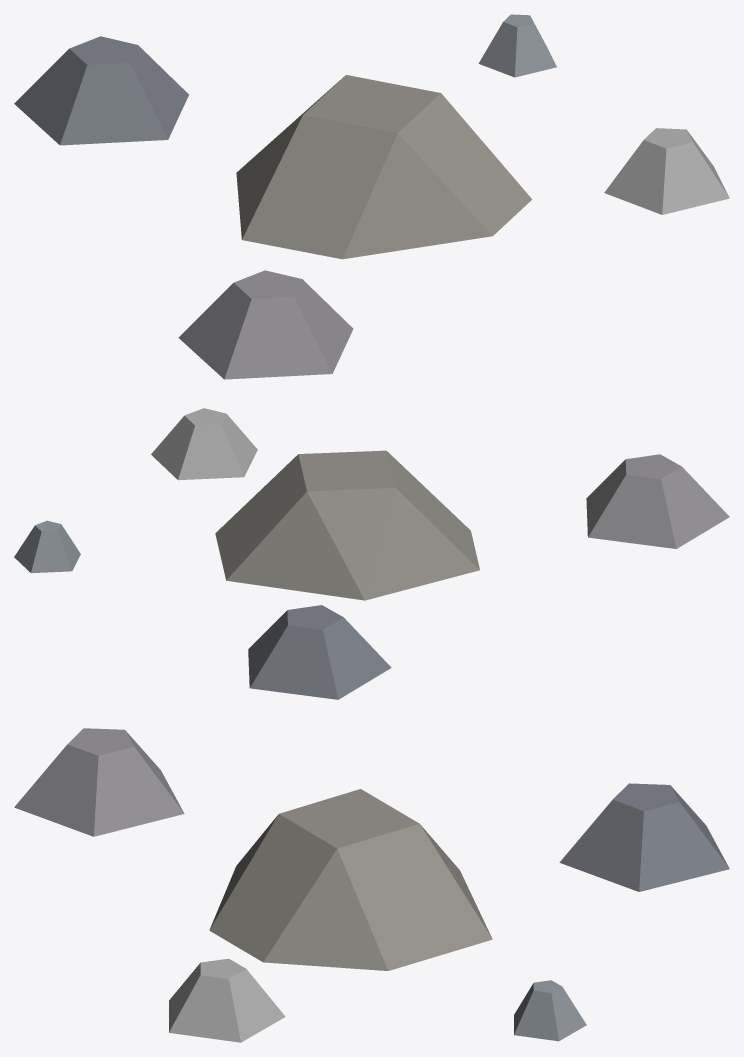
The model's file is Rocks_Round_s_01 2.fbx.
3 views of the same model, one above another, from view 1: azimuth 30°, elevation 25°; view 2: azimuth 150°, elevation 25°; view 3: azimuth 270°, elevation 25° (orthographic). The views are drawn at different scales.
Visible parts, largest first — view 1: Rocks_Round_s_01; view 2: Rocks_Round_s_01; view 3: Rocks_Round_s_01.
Part boxes in pixels (bbox=[...]): Rocks_Round_s_01: bbox=[14, 14, 729, 379]; Rocks_Round_s_01: bbox=[14, 408, 729, 699]; Rocks_Round_s_01: bbox=[14, 728, 729, 1042].
Size of the model in its own units: 50.76 by 7.62 by 55.43.
